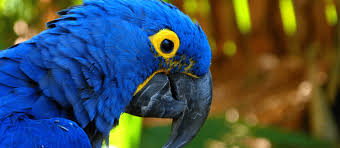guacamaya: (1, 1, 214, 148)
